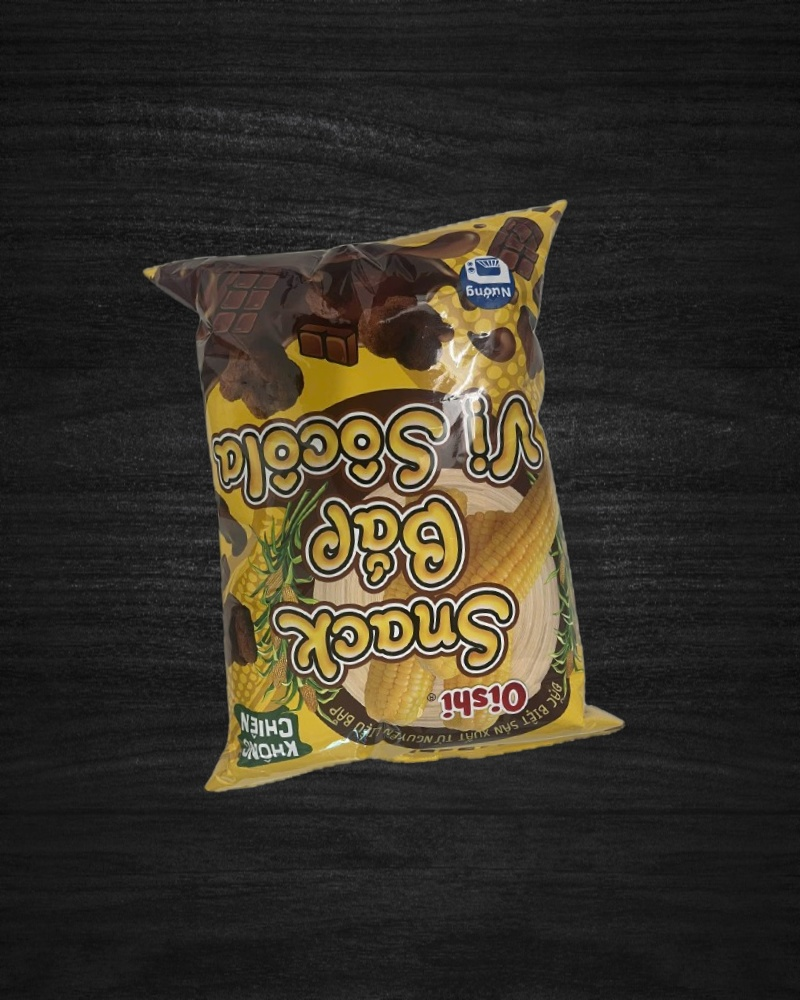Snack socola: (142, 201, 629, 793)
